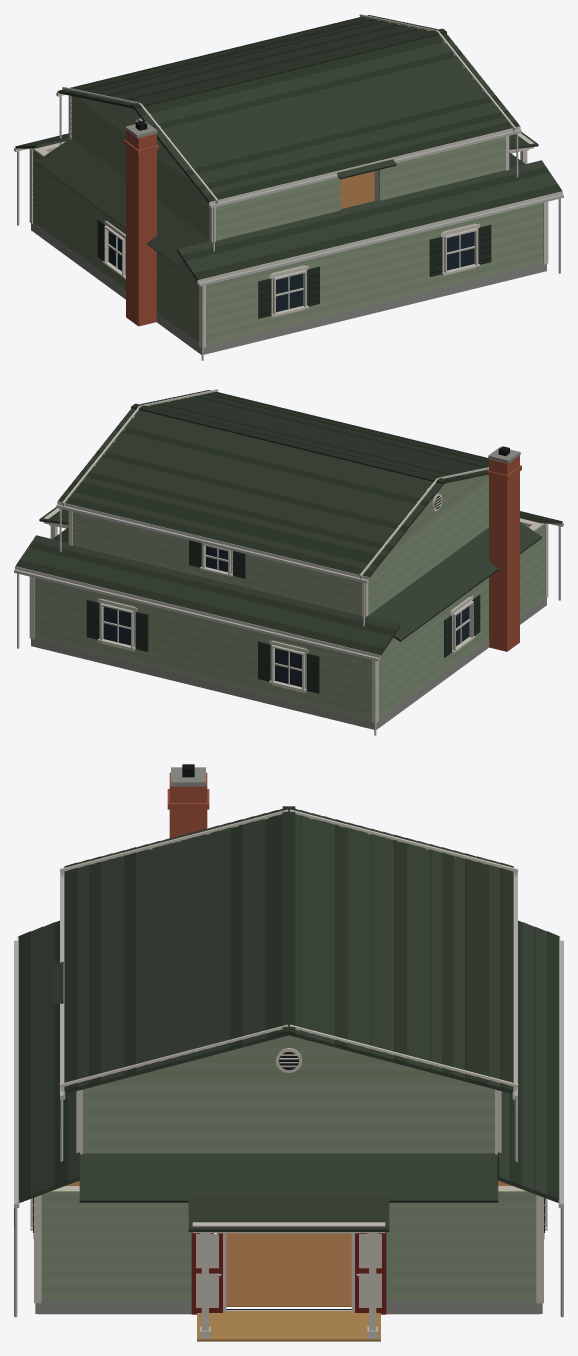
File: house-sage-attic.glb
The picture shows the model from 3 angles, top to bottom: view 1: azimuth 30°, elevation 25°; view 2: azimuth 150°, elevation 25°; view 3: azimuth 270°, elevation 25°; orthographic projection. The views are drawn at different scales.
Visible parts, largest first — view 1: house-sage-attic; view 2: house-sage-attic; view 3: house-sage-attic.
Boxes of the visible parts, x1,y1,x2,y2 form: house-sage-attic: (14,14,563,360); house-sage-attic: (14,389,563,735); house-sage-attic: (14,764,563,1341).
Bounding box in the file's own units: 16.67 × 7.67 × 13.14.
